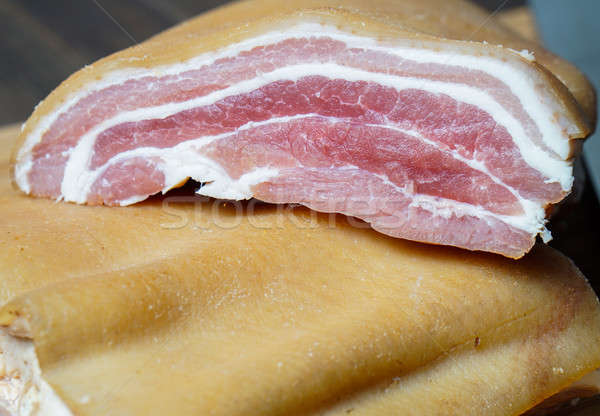bacon: (18, 18, 585, 251)
